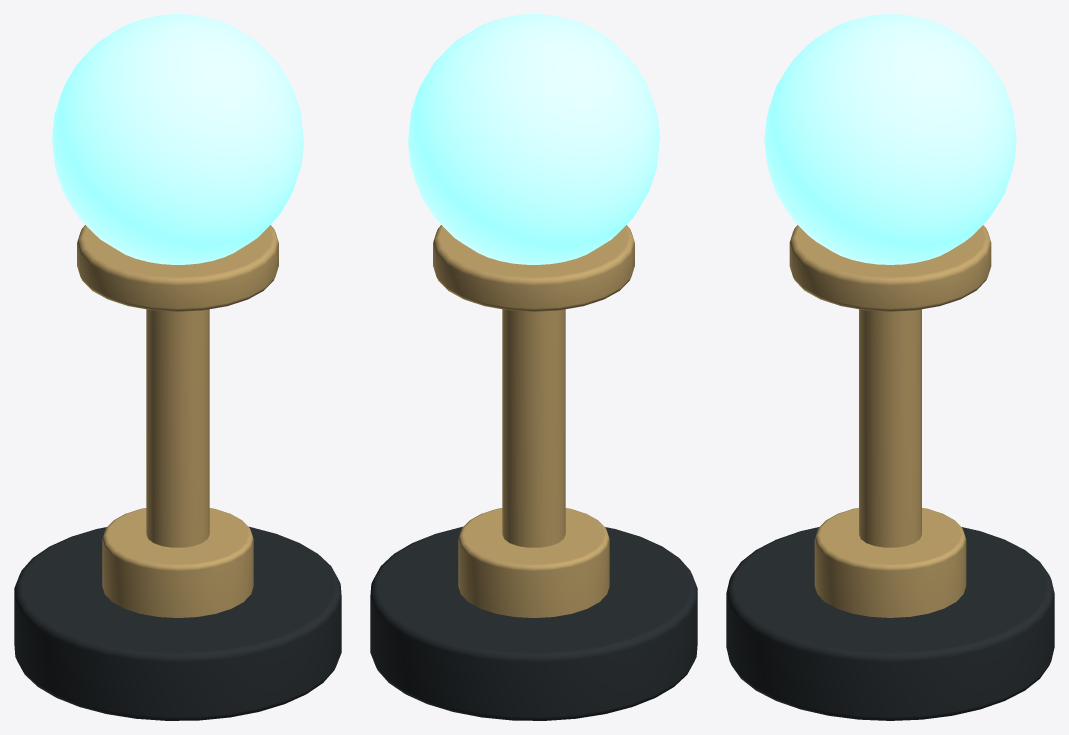
The model's file is hp_puzzle_orb_pedestal.glb.
The picture shows the model from 3 angles, left to right: view 1: azimuth 30°, elevation 25°; view 2: azimuth 150°, elevation 25°; view 3: azimuth 270°, elevation 25°; orthographic projection.
Parts seen in each view (by area): view 1: orb_lens, orb_base, orb_stem, orb_collar, orb_cradle; view 2: orb_lens, orb_base, orb_stem, orb_collar, orb_cradle; view 3: orb_lens, orb_base, orb_stem, orb_collar, orb_cradle.
Part boxes in pixels (bbox=[...]): orb_lens: bbox=[52, 14, 303, 264]; orb_base: bbox=[14, 526, 341, 720]; orb_stem: bbox=[146, 309, 209, 547]; orb_collar: bbox=[102, 508, 253, 617]; orb_cradle: bbox=[77, 225, 278, 311]; orb_lens: bbox=[408, 14, 659, 264]; orb_base: bbox=[370, 526, 697, 720]; orb_stem: bbox=[502, 309, 565, 547]; orb_collar: bbox=[458, 508, 609, 617]; orb_cradle: bbox=[433, 225, 634, 311]; orb_lens: bbox=[764, 14, 1016, 264]; orb_base: bbox=[726, 527, 1054, 720]; orb_stem: bbox=[859, 309, 921, 547]; orb_collar: bbox=[814, 508, 966, 617]; orb_cradle: bbox=[789, 225, 991, 311].
Bounding box in the file's own units: 0.52 × 1.1 × 0.52.
